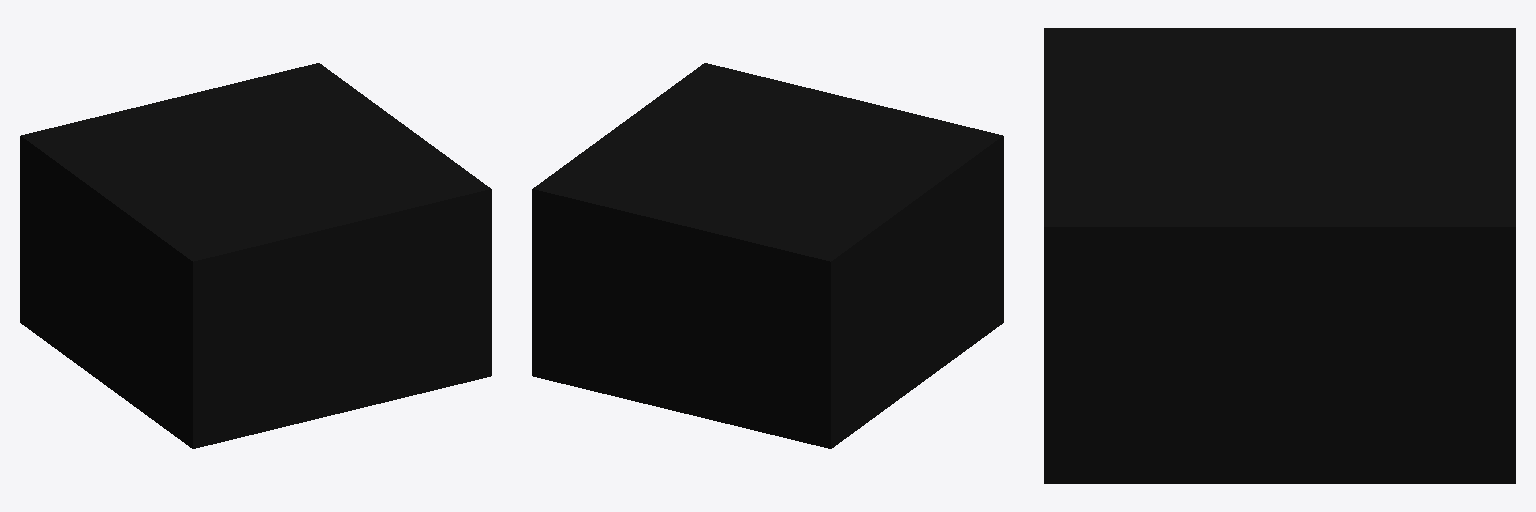
robot.urdf — camera_bot:
<?xml version="1.0"?>
<robot name="camera_bot">

  <!-- ================= REALSENSE LINK ================= -->
  <link name="camera_link">
    <inertial>
      <mass value="0.1"/>
      <origin xyz="0 0 0"/>
      <inertia
        ixx="0.001" ixy="0.0" ixz="0.0"
        iyy="0.001" iyz="0.0"
        izz="0.001"/>
    </inertial>

    <visual>
      <geometry>
        <box size="0.05 0.05 0.03"/>
      </geometry>
      <material name="black">
        <color rgba="0.1 0.1 0.1 1.0"/>
      </material>
    </visual>

    <collision>
      <geometry>
        <box size="0.05 0.05 0.03"/>
      </geometry>
    </collision>
  </link>

  <!-- ================= GAZEBO EXTENSIONS ================= -->
  <gazebo reference="camera_link">

    <!-- DEPTH SENSOR (required by RealSense plugin) -->
    <sensor name="realsense_depth" type="depth">
      <always_on>true</always_on>
      <update_rate>30</update_rate>
      <camera>
        <horizontal_fov>1.57</horizontal_fov>
        <image>
          <width>640</width>
          <height>480</height>
          <format>R_FLOAT32</format>
        </image>
        <clip>
          <near>0.1</near>
          <far>10.0</far>
        </clip>
      </camera>
    </sensor>

    <!-- COLOR SENSOR (required by RealSense plugin) -->
    <sensor name="realsense_color" type="camera">
      <always_on>true</always_on>
      <update_rate>30</update_rate>
      <camera>
        <horizontal_fov>1.57</horizontal_fov>
        <image>
          <width>640</width>
          <height>480</height>
          <format>RGB_INT8</format>
        </image>
        <clip>
          <near>0.1</near>
          <far>10.0</far>
        </clip>
      </camera>
    </sensor>

    <!-- REALSENSE D435 PLUGIN -->
    <plugin name="realsense_plugin"
            filename="librealsense_gazebo_plugin.so">

      <prefix>camera</prefix>

      <depthUpdateRate>30.0</depthUpdateRate>
      <colorUpdateRate>30.0</colorUpdateRate>

      <depthTopicName>depth/image_raw</depthTopicName>
      <depthCameraInfoTopicName>depth/camera_info</depthCameraInfoTopicName>

      <colorTopicName>color/image_raw</colorTopicName>
      <colorCameraInfoTopicName>color/camera_info</colorCameraInfoTopicName>

      <rangeMinDepth>0.1</rangeMinDepth>
      <rangeMaxDepth>10.0</rangeMaxDepth>

      <pointCloud>true</pointCloud>
      <pointCloudTopicName>depth/color/points</pointCloudTopicName>
      <pointCloudCutoff>0.1</pointCloudCutoff>

    </plugin>

  </gazebo>

</robot>

--- Render facts (derived) ---
Views: 3 orthographic renders of the robot side by side, from view 1: azimuth 30°, elevation 25°; view 2: azimuth 150°, elevation 25°; view 3: azimuth 270°, elevation 25°.
Robot: camera_bot — 1 links, 0 joints (none); root link camera_link; default pose: all joints at 0.
Visible links, largest first — view 1: camera_link; view 2: camera_link; view 3: camera_link.
Boxes of the visible links, box(x1,y1,x2,y2) form: camera_link: box(20, 63, 491, 448); camera_link: box(532, 63, 1003, 448); camera_link: box(1044, 28, 1515, 483).
Bounding box of the posed robot: 0.05 × 0.05 × 0.03 m (x, y, z).
Geometry: primitives only (box / cylinder / sphere), no mesh files.
